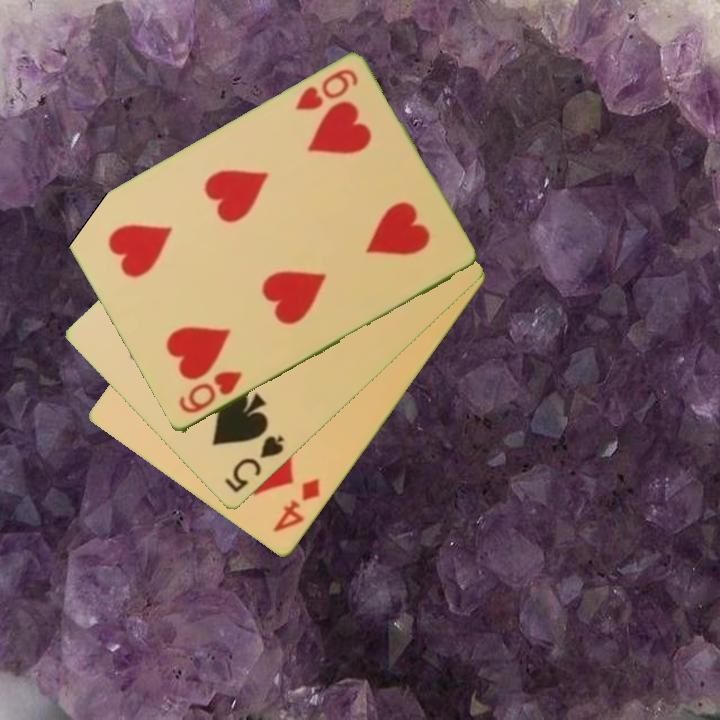4d: (269, 475, 324, 536)
5s: (220, 432, 288, 497)
6h: (174, 368, 245, 417), (291, 65, 361, 114)
